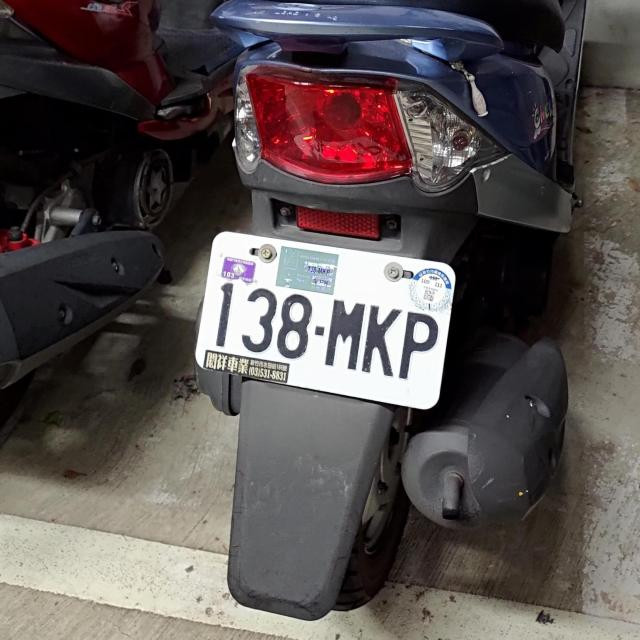W: (190, 228, 462, 409)
